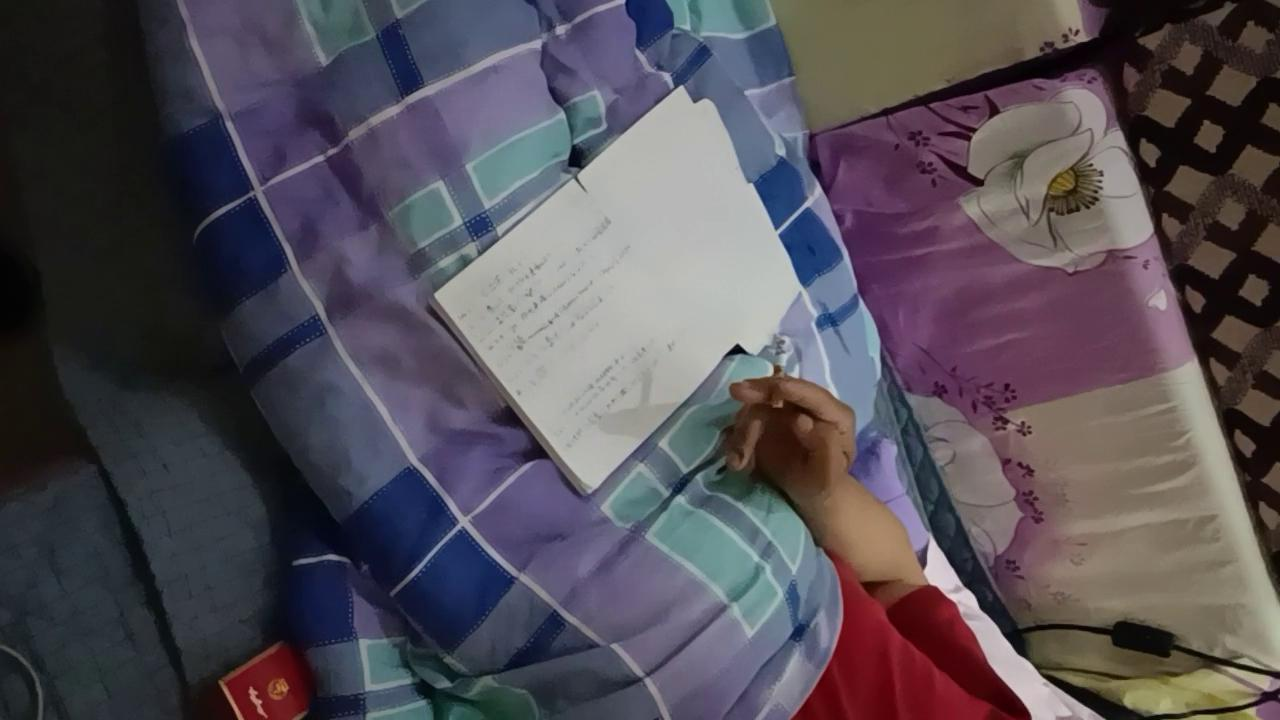smoke: (772, 339, 788, 408)
